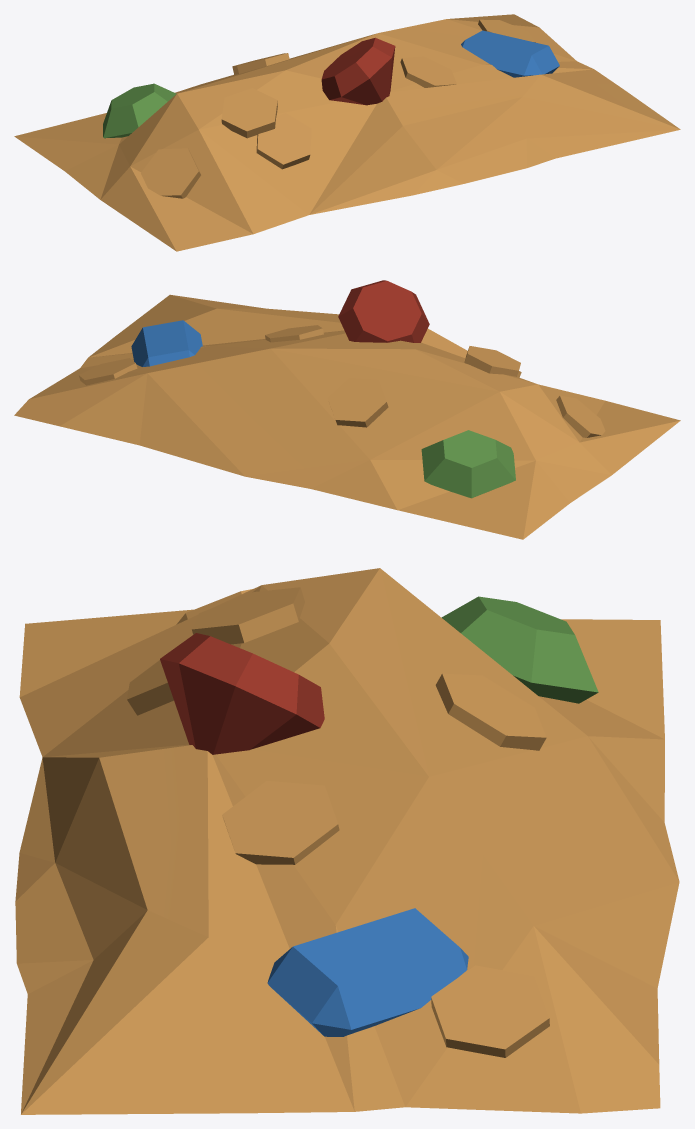
Rendered from SM_Prop_Chest_Treasure_01.glb.
The picture shows the model from 3 angles, top to bottom: view 1: azimuth 30°, elevation 25°; view 2: azimuth 150°, elevation 25°; view 3: azimuth 270°, elevation 25°; orthographic projection. The views are drawn at different scales.
Visible parts, largest first — view 1: SM_Prop_Chest_Treasure_01; view 2: SM_Prop_Chest_Treasure_01; view 3: SM_Prop_Chest_Treasure_01.
Boxes of the visible parts, x1=… form: SM_Prop_Chest_Treasure_01: x1=14, y1=14, x2=680, y2=251; SM_Prop_Chest_Treasure_01: x1=14, y1=280, x2=680, y2=539; SM_Prop_Chest_Treasure_01: x1=15, y1=568, x2=679, y2=1114.
Bounding box in the file's own units: 0.00807 × 0.00175 × 0.00457.
Materials: 1 (1 with a texture image).
